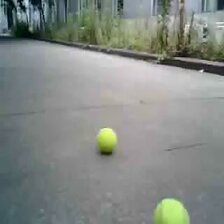tennis: (153, 198, 189, 224), (97, 128, 117, 154)
